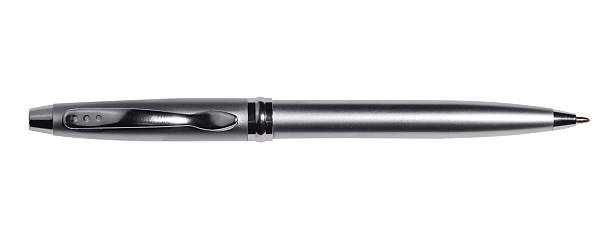pen: (20, 90, 599, 151)
